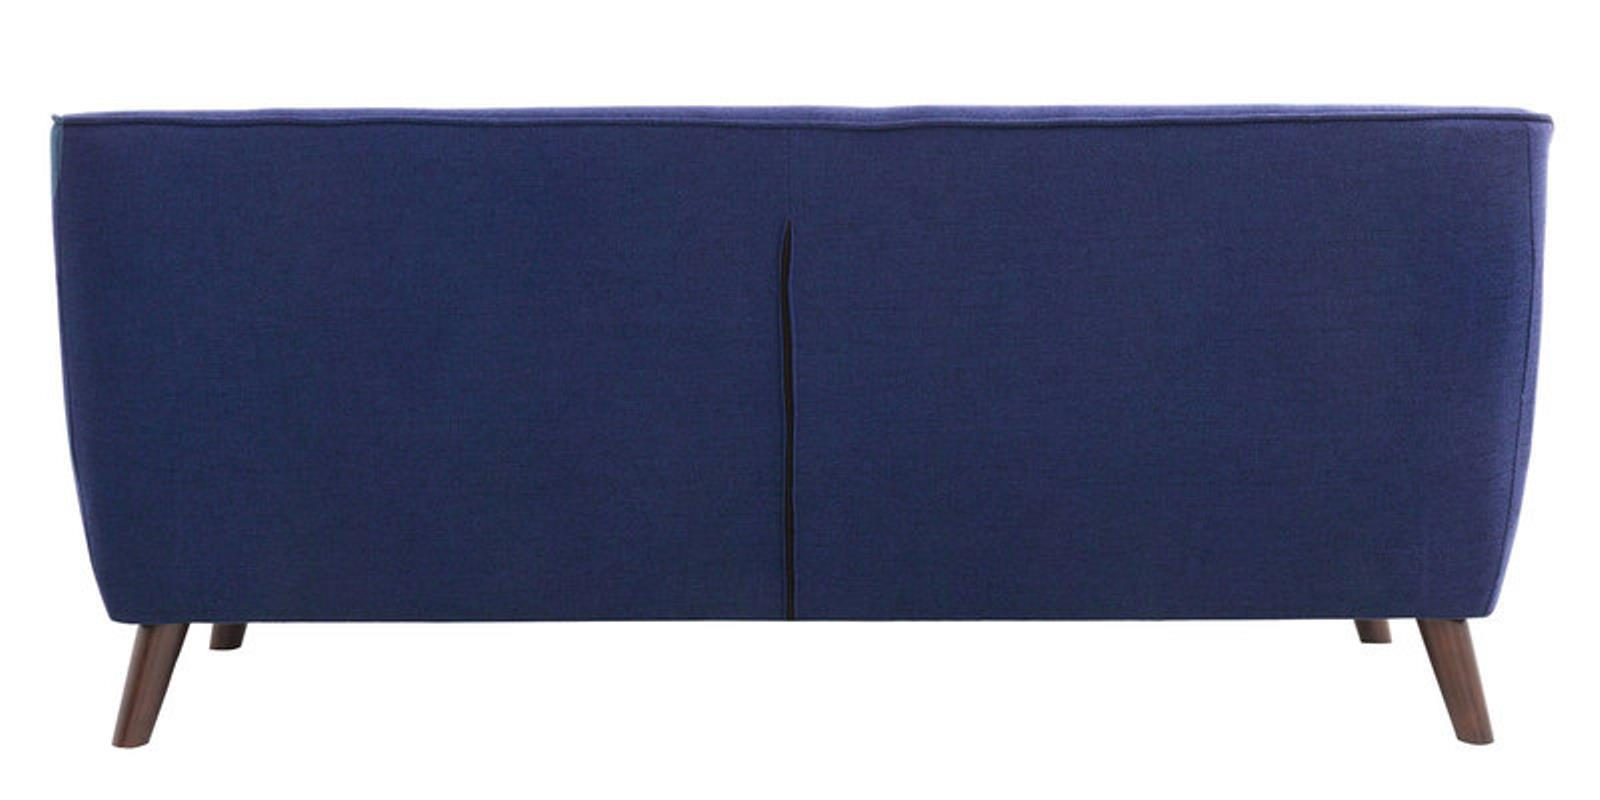Bogota Three Seater Sofa in Blue Colour by CasaCraft: (31, 112, 1566, 727)
